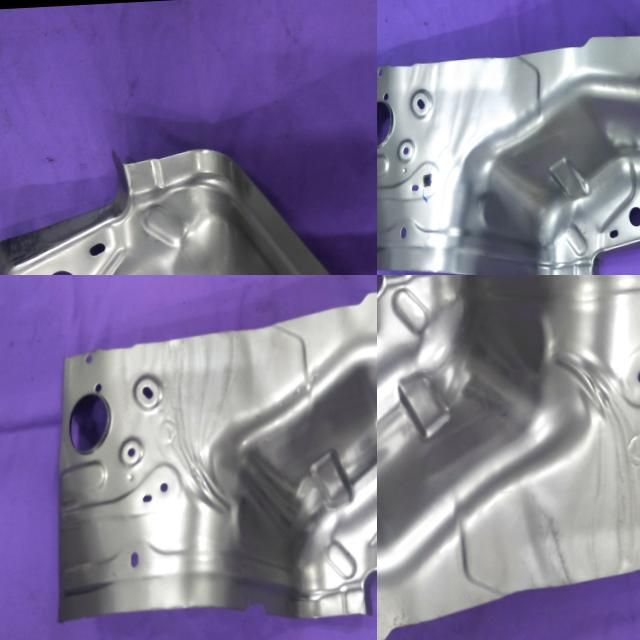Defect: (222, 585, 293, 628), (445, 275, 553, 295)
Healthy: (377, 28, 640, 275), (0, 124, 377, 275)
